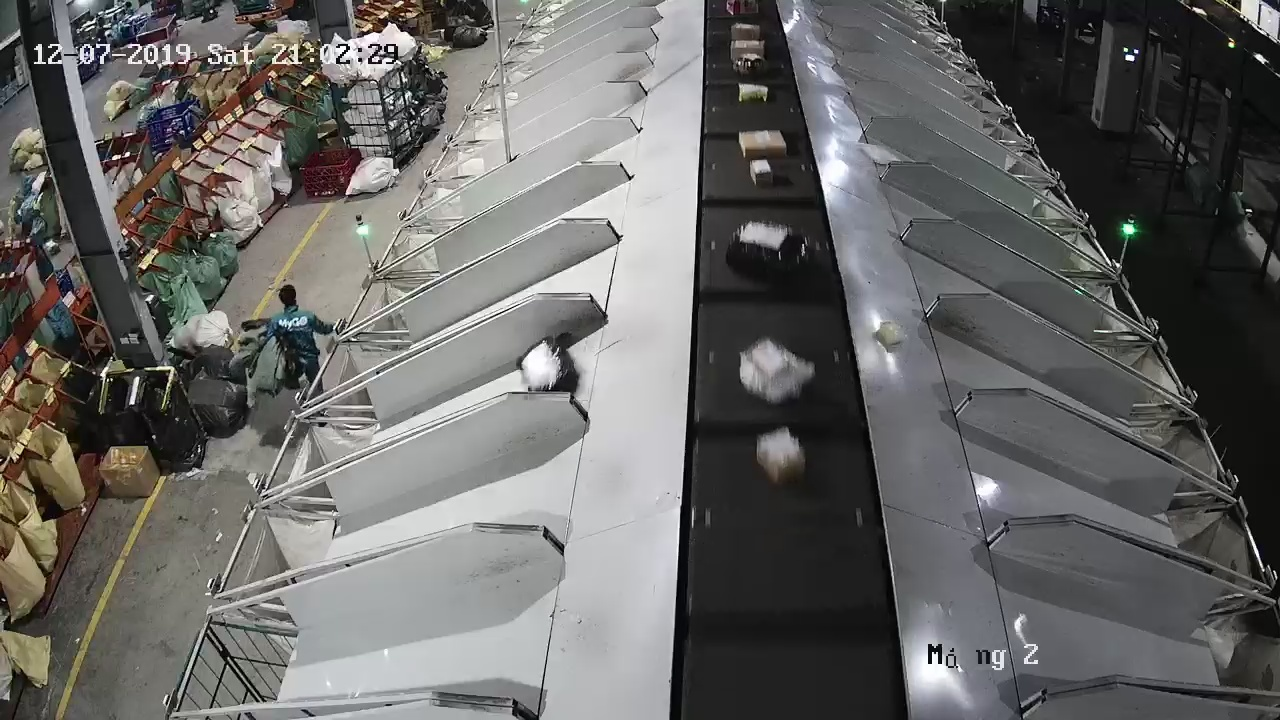parcel: (515, 336, 576, 392), (857, 141, 903, 167), (874, 319, 906, 350)
